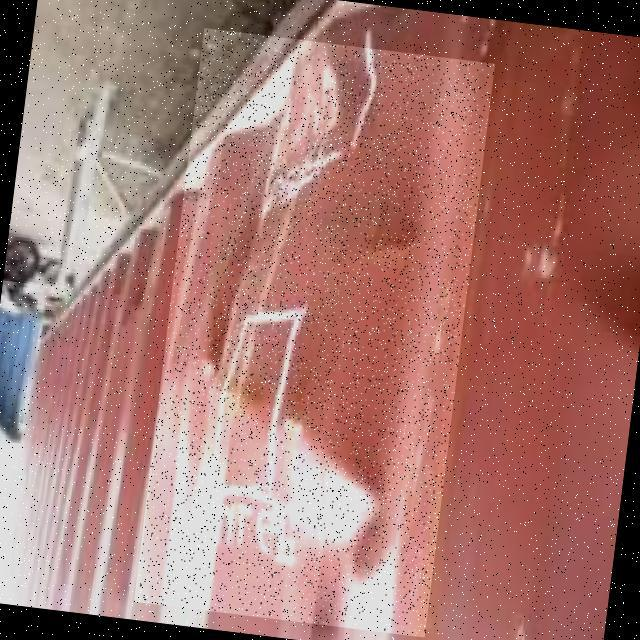Dent: (134, 28, 495, 637)
